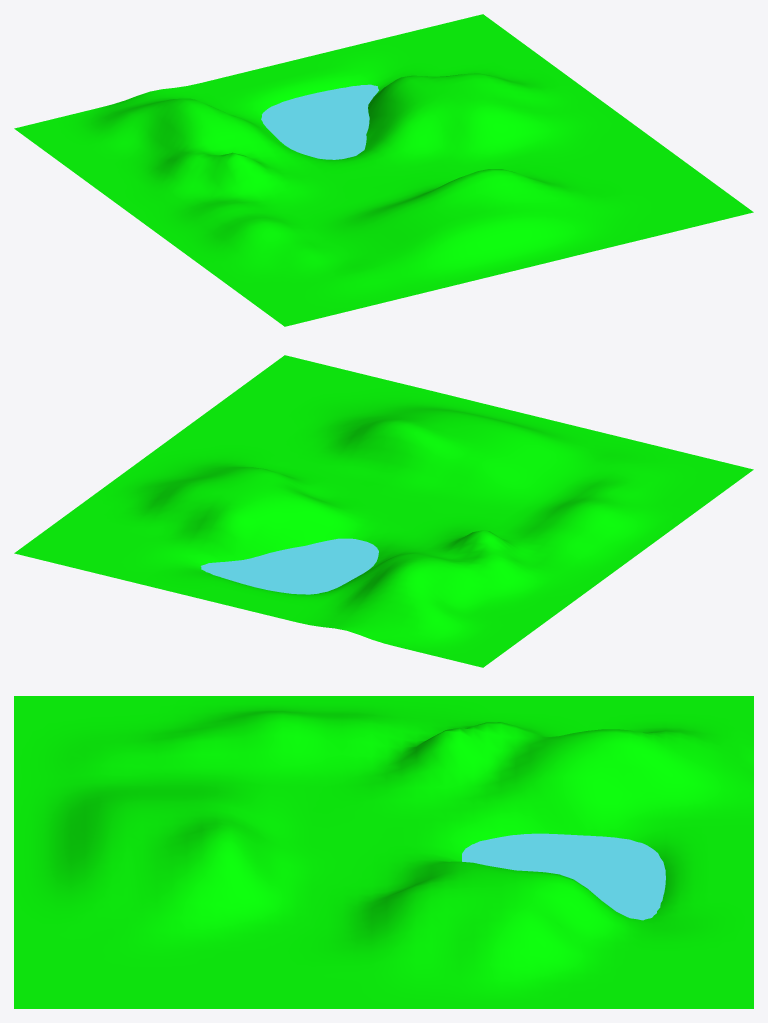
The model's file is Topo.fbx.
3 views of the same model, one above another, from view 1: azimuth 30°, elevation 25°; view 2: azimuth 150°, elevation 25°; view 3: azimuth 270°, elevation 25° (orthographic). The views are drawn at different scales.
Parts seen in each view (by area): view 1: CHECKER - GREEN_2, CHECKER - BLUE - TRANSPARENT_2; view 2: CHECKER - GREEN_2, CHECKER - BLUE - TRANSPARENT_2; view 3: CHECKER - GREEN_2, CHECKER - BLUE - TRANSPARENT_2.
Part boxes in pixels (<box>): CHECKER - GREEN_2: <box>14,14,753,326</box>; CHECKER - BLUE - TRANSPARENT_2: <box>261,84,378,159</box>; CHECKER - GREEN_2: <box>14,355,753,667</box>; CHECKER - BLUE - TRANSPARENT_2: <box>201,538,378,594</box>; CHECKER - GREEN_2: <box>14,696,753,1008</box>; CHECKER - BLUE - TRANSPARENT_2: <box>462,833,665,920</box>.
Bounding box in the file's own units: 4829 × 4829 × 678.
